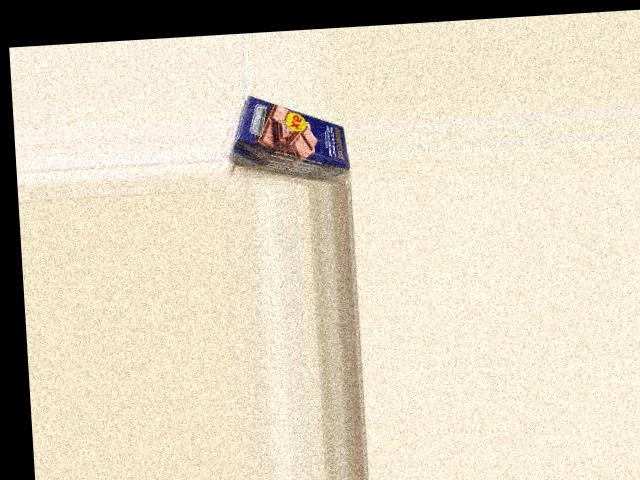chocolate: (233, 89, 350, 182)
